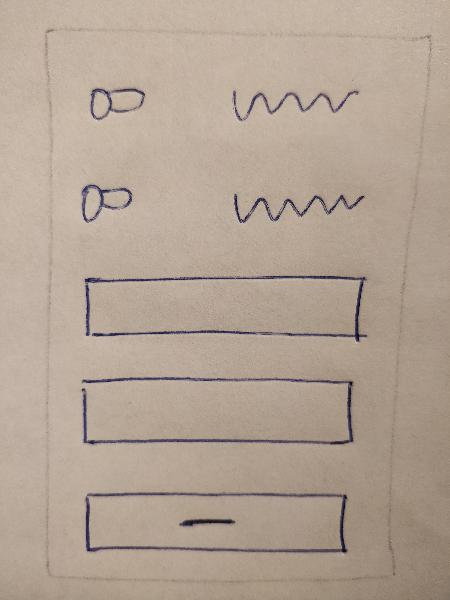button: (79, 484, 352, 561)
switch: (78, 79, 155, 135), (71, 176, 148, 232)
text: (221, 80, 363, 125), (229, 182, 371, 227)
text_input: (79, 268, 372, 351), (71, 370, 364, 453)
